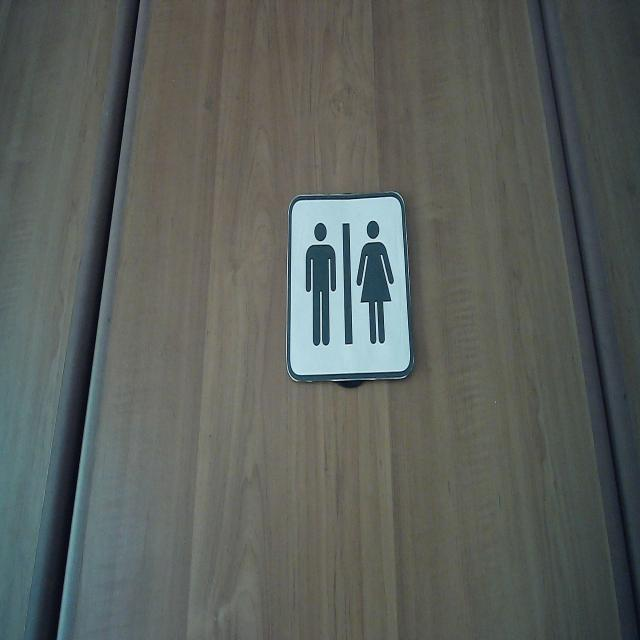restroom: (285, 188, 417, 386)
